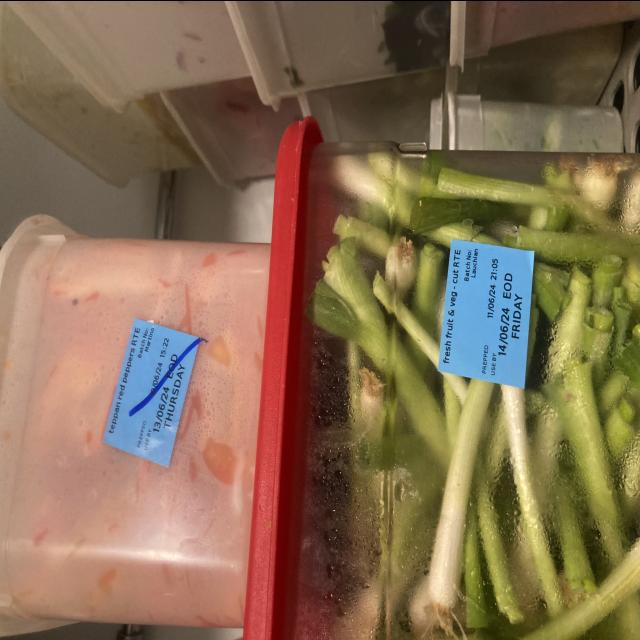product-labels: (102, 318, 201, 466), (438, 239, 535, 387)
